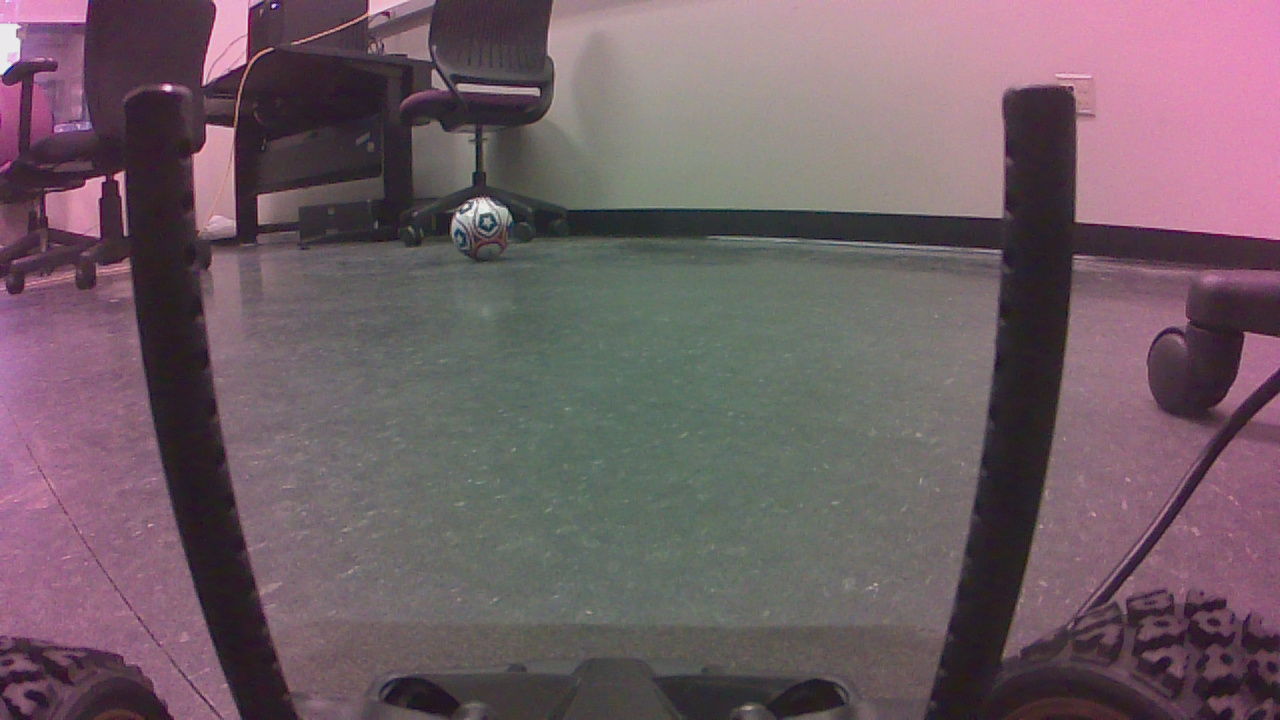ball: (457, 201, 519, 266)
